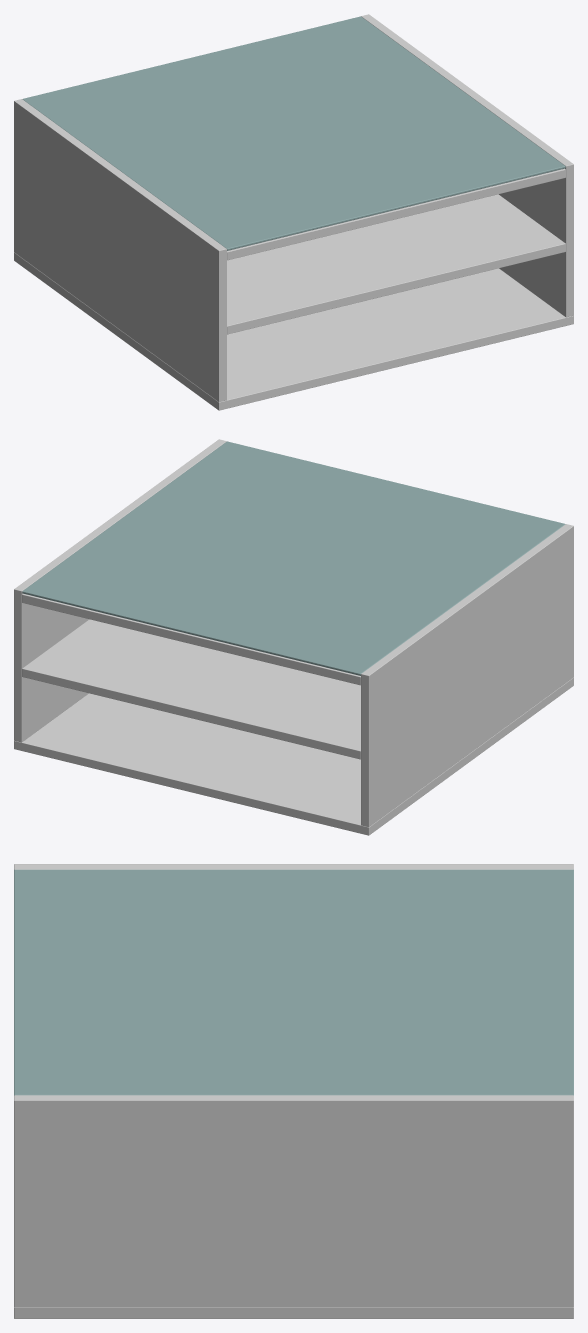
File: shelf.fbx
The picture shows the model from 3 angles, top to bottom: view 1: azimuth 30°, elevation 25°; view 2: azimuth 150°, elevation 25°; view 3: azimuth 270°, elevation 25°; orthographic projection. The views are drawn at different scales.
Parts seen in each view (by area): view 1: shelves; view 2: shelves; view 3: shelves.
Boxes of the visible parts, box(x1,y1,x2,y2) form: shelves: box(14, 14, 573, 410); shelves: box(14, 439, 573, 835); shelves: box(14, 864, 573, 1318).
Bounding box in the file's own units: 16.18 × 6.96 × 16.18.
